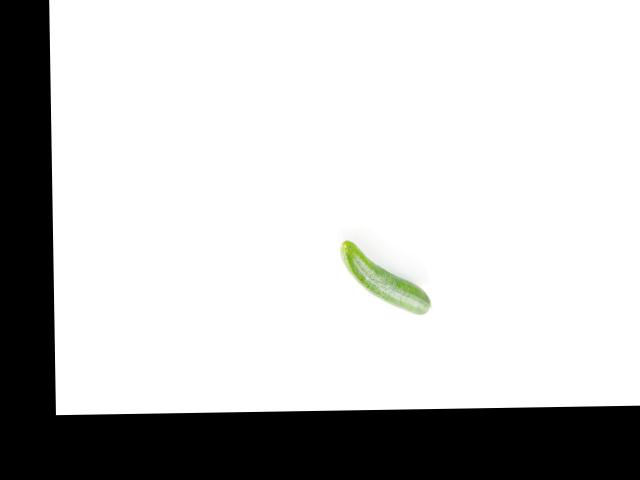cucumber: (340, 238, 431, 315)
